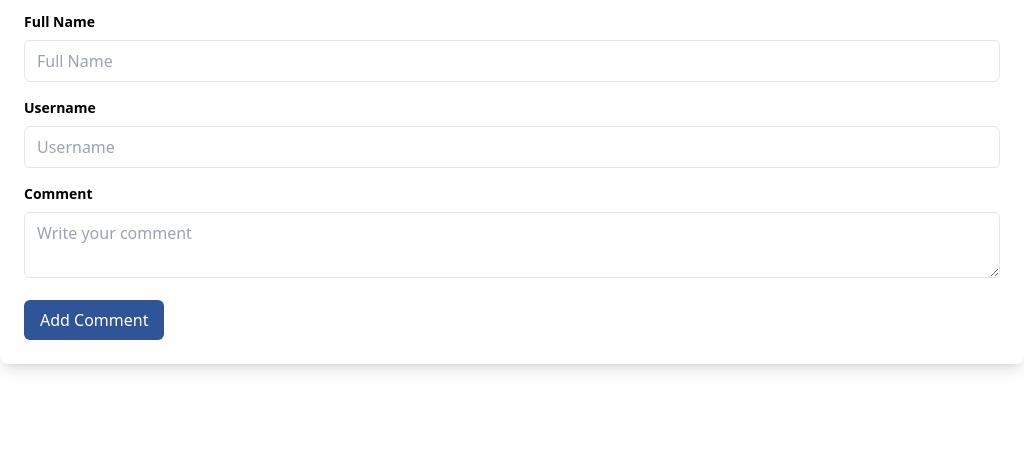
it: CommentForm › shows validation errors when fields are empty on submit
Click the button "Add Comment". click: (94, 320)
box: [24,300,164,340]
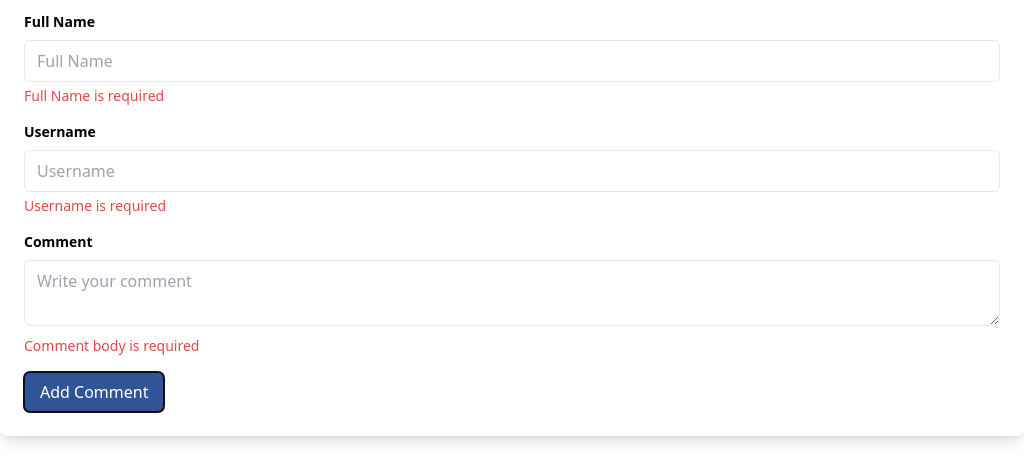
Expected: the text "Full Name is required" is shown, [24,86,164,105]
Expected: the text "Username is required" is shown, [24,196,166,215]
Expected: the text "Comment body is required" is shown, [24,336,200,355]
